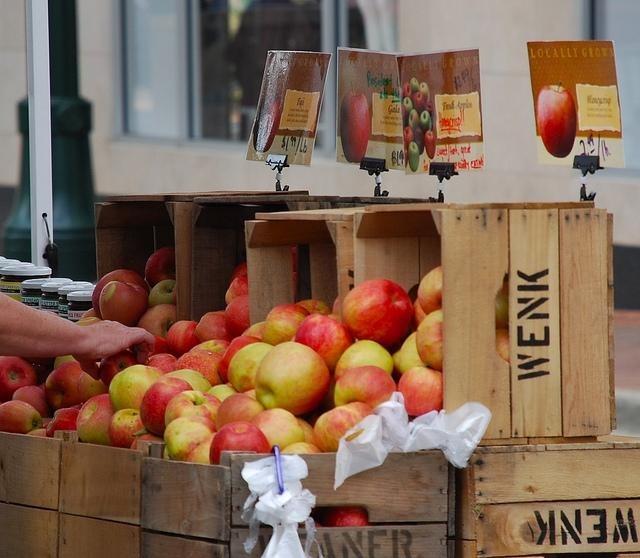apple: (256, 341, 332, 416), (341, 278, 414, 346), (296, 312, 356, 374), (314, 402, 378, 454), (140, 377, 193, 436), (537, 80, 577, 157), (92, 270, 150, 320), (334, 365, 397, 410), (210, 421, 272, 465), (248, 408, 306, 454), (109, 365, 164, 412), (334, 340, 394, 382), (340, 80, 370, 163), (226, 342, 274, 393), (164, 416, 216, 462), (99, 281, 149, 328), (218, 336, 266, 383), (398, 366, 442, 416), (165, 390, 222, 427), (76, 394, 115, 446), (262, 304, 310, 346), (172, 350, 225, 387), (215, 393, 265, 432), (45, 361, 83, 411), (416, 308, 443, 373), (1, 356, 38, 403), (253, 92, 281, 153), (99, 350, 139, 388), (0, 400, 43, 434), (136, 304, 176, 339), (144, 246, 176, 289), (194, 312, 237, 344), (77, 362, 109, 405), (110, 408, 144, 448), (166, 320, 200, 359), (12, 385, 52, 418), (323, 506, 378, 528), (162, 370, 212, 394), (418, 266, 442, 316), (225, 294, 251, 337), (400, 331, 425, 375), (46, 408, 80, 438), (188, 432, 216, 464), (148, 279, 176, 308), (130, 428, 164, 450), (318, 374, 336, 414), (226, 274, 248, 306), (494, 281, 508, 330), (205, 384, 240, 403), (190, 340, 231, 356), (296, 418, 316, 444), (148, 336, 171, 358), (280, 442, 322, 454), (496, 328, 510, 363), (242, 320, 266, 340), (231, 262, 247, 284), (408, 142, 419, 172), (419, 110, 432, 135), (412, 93, 425, 114), (80, 308, 98, 320), (25, 429, 47, 437), (332, 296, 339, 315)
